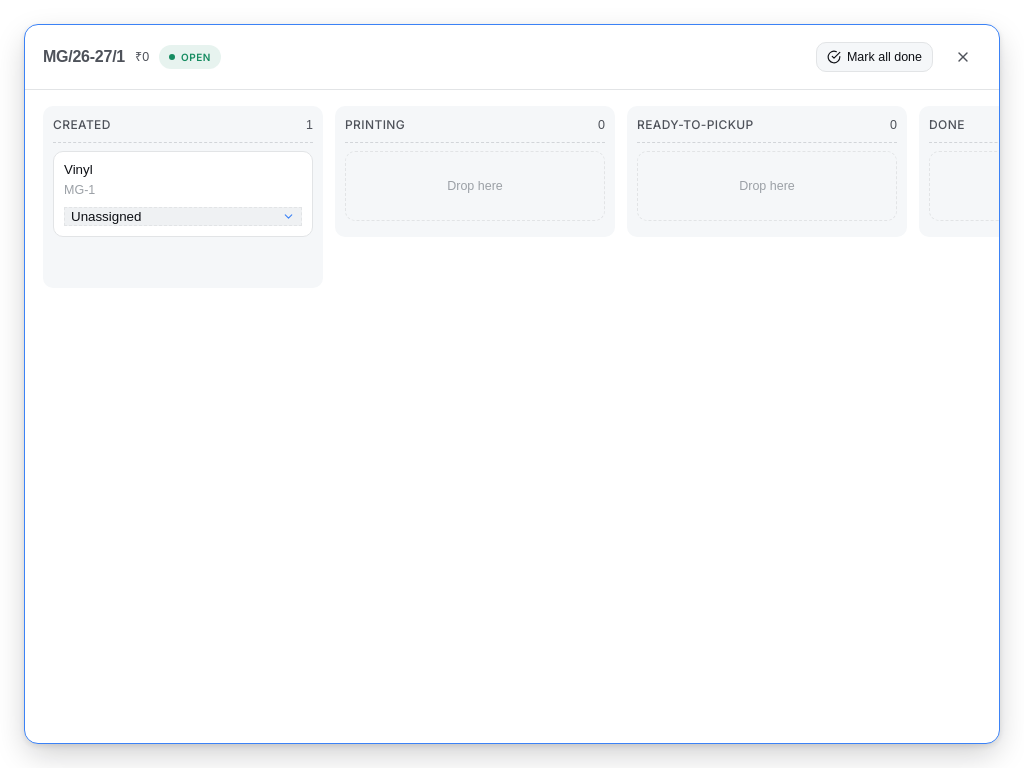
Scenario: assigning from the board › offers employees and not suppliers
Click the button "Unassigned" at point(183, 216), box 64,207 -> 302,226
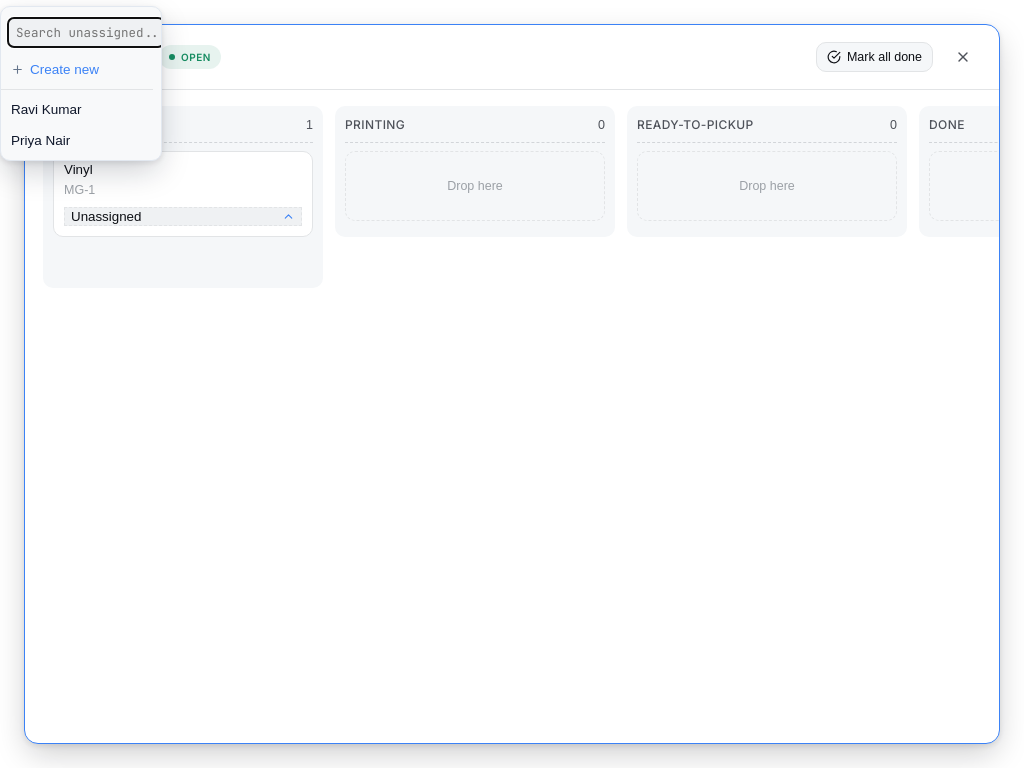
Now the option "Ravi Kumar" is shown, box 1,94 -> 153,125
Now the option "Priya Nair" is shown, box 1,125 -> 153,156
